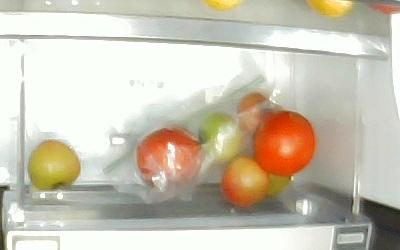tomato: (252, 110, 316, 176), (28, 140, 81, 191), (221, 156, 267, 209)
tomato_vinyl: (136, 128, 203, 187), (198, 112, 244, 164), (237, 92, 272, 135)
